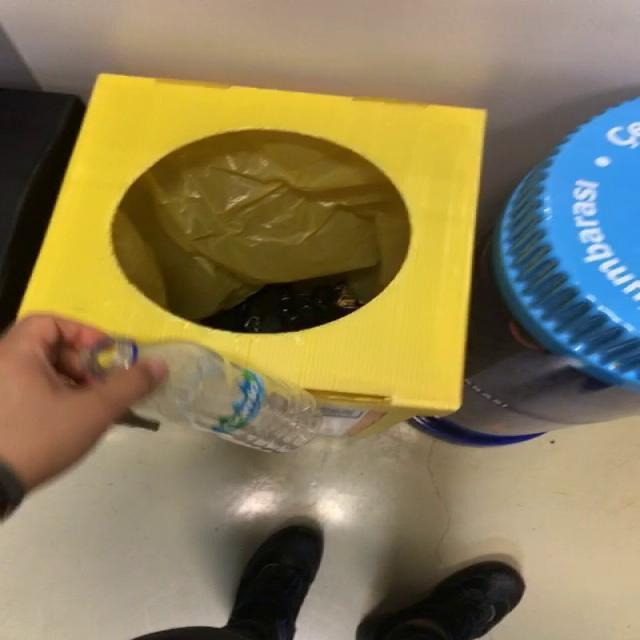Plastic: (89, 339, 321, 452)
